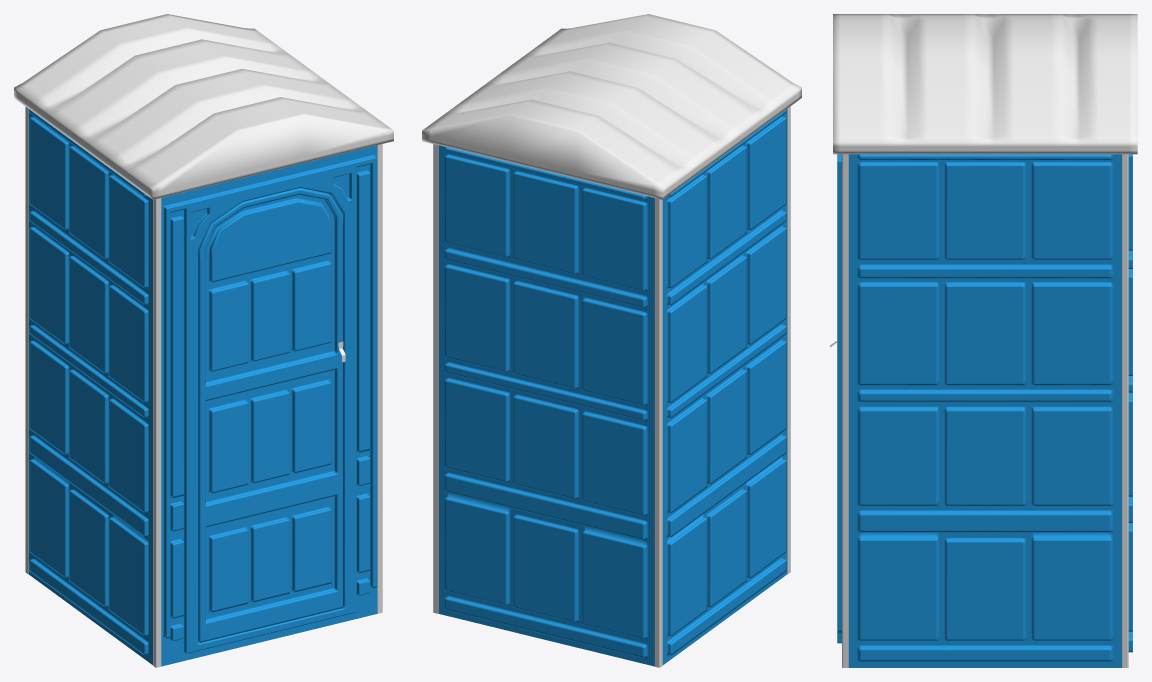
File: cabin-mtk-standart.glb
The picture shows the model from 3 angles, left to right: view 1: azimuth 30°, elevation 25°; view 2: azimuth 150°, elevation 25°; view 3: azimuth 270°, elevation 25°; orthographic projection. The views are drawn at different scales.
Visible parts, largest first — view 1: дверь, боковая 1, крышка, Лицевая, Plane004; view 2: боковая 003, боковая 1, крышка, Plane004; view 3: боковая 002, крышка, Plane004, боковая 003, Лицевая.
Boxes of the visible parts, bbox=[...] form: дверь: bbox=[198, 188, 342, 642]; боковая 1: bbox=[28, 109, 152, 664]; крышка: bbox=[14, 14, 393, 199]; Лицевая: bbox=[161, 145, 377, 666]; Plane004: bbox=[25, 106, 382, 667]; боковая 003: bbox=[438, 145, 654, 666]; боковая 1: bbox=[662, 109, 787, 665]; крышка: bbox=[422, 14, 801, 199]; Plane004: bbox=[433, 106, 790, 667]; боковая 002: bbox=[848, 154, 1121, 667]; крышка: bbox=[833, 14, 1137, 154]; Plane004: bbox=[842, 154, 1128, 667]; боковая 003: bbox=[1128, 154, 1132, 652]; Лицевая: bbox=[837, 154, 841, 643].
Bounding box in the file's own units: 1217 × 2511 × 1229.
